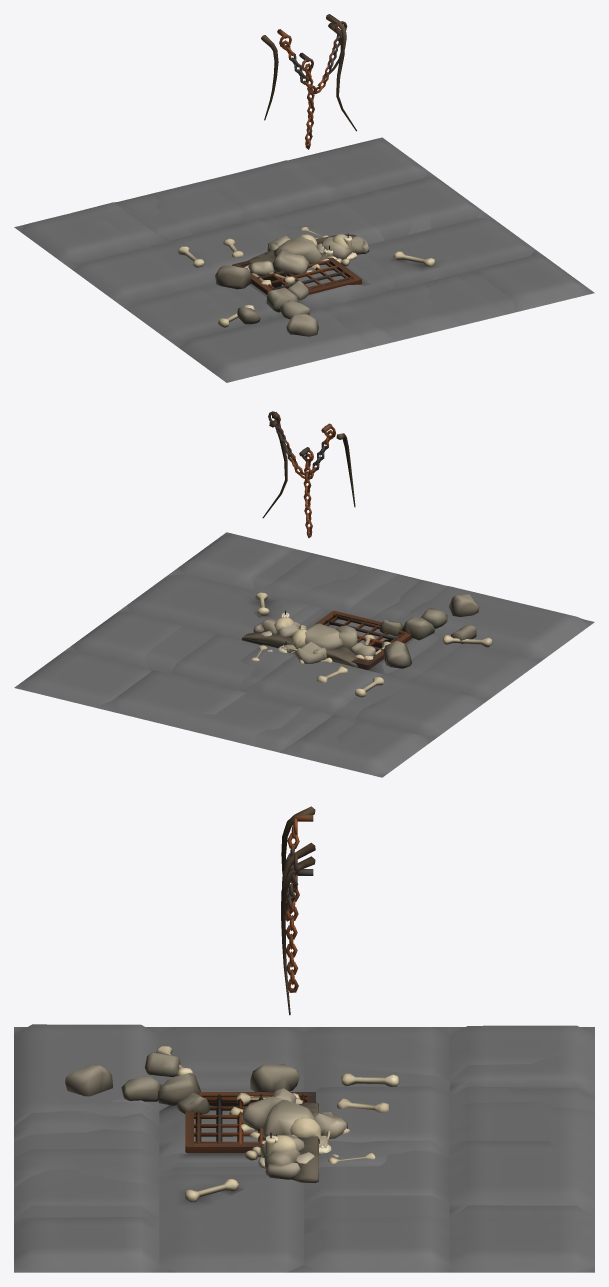
The model's file is bioma_catacumbas_alta.glb.
3 renders of one model, top to bottom at view 1: azimuth 30°, elevation 25°; view 2: azimuth 150°, elevation 25°; view 3: azimuth 270°, elevation 25°, orthographic. The views are drawn at different scales.
Parts seen in each view (by area): view 1: piso_a_malla, piso_c_malla, piso_e_malla, piso_d_malla, piso_b_malla, det_pie_escombro_malla, det_muro_raices_malla, det_muro_cadena_malla, det_muro_argolla_malla; view 2: piso_a_malla, piso_c_malla, piso_e_malla, piso_d_malla, piso_b_malla, det_pie_escombro_malla, det_muro_cadena_malla, det_muro_raices_malla, det_piedritas_malla, det_muro_argolla_malla; view 3: piso_a_malla, piso_c_malla, piso_e_malla, piso_d_malla, piso_b_malla, det_pie_escombro_malla, det_muro_raices_malla, det_muro_argolla_malla, det_piedritas_malla, det_muro_cadena_malla, det_pie_huesos_malla.
Part boxes in pixels (x1,y1,x2,y2): piso_a_malla: (22,140,534,340); piso_c_malla: (14,137,594,382); piso_e_malla: (21,192,534,379); piso_d_malla: (143,173,513,346); piso_b_malla: (21,214,515,339); det_pie_escombro_malla: (248,234,369,276); det_muro_raices_malla: (261,14,356,131); det_muro_cadena_malla: (277,21,347,93); det_muro_argolla_malla: (299,52,314,149); piso_a_malla: (21,574,532,774); piso_c_malla: (14,532,594,777); piso_e_malla: (101,576,587,774); piso_d_malla: (166,563,479,746); piso_b_malla: (253,550,532,774); det_pie_escombro_malla: (241,618,375,667); det_muro_cadena_malla: (268,411,335,479); det_muro_raices_malla: (262,412,355,518); det_piedritas_malla: (261,631,326,663); det_muro_argolla_malla: (299,447,313,538); piso_a_malla: (159,1027,594,1272); piso_c_malla: (14,1027,594,1272); piso_e_malla: (14,1024,594,1272); piso_d_malla: (14,1052,594,1187); piso_b_malla: (16,1025,594,1218); det_pie_escombro_malla: (241,1088,318,1182); det_muro_raices_malla: (281,806,315,1015); det_muro_argolla_malla: (286,869,313,992); det_piedritas_malla: (296,1112,347,1163); det_muro_cadena_malla: (285,815,313,921); det_pie_huesos_malla: (241,1124,318,1172).
Size of the model in its own units: 2 by 1.24 by 2.
